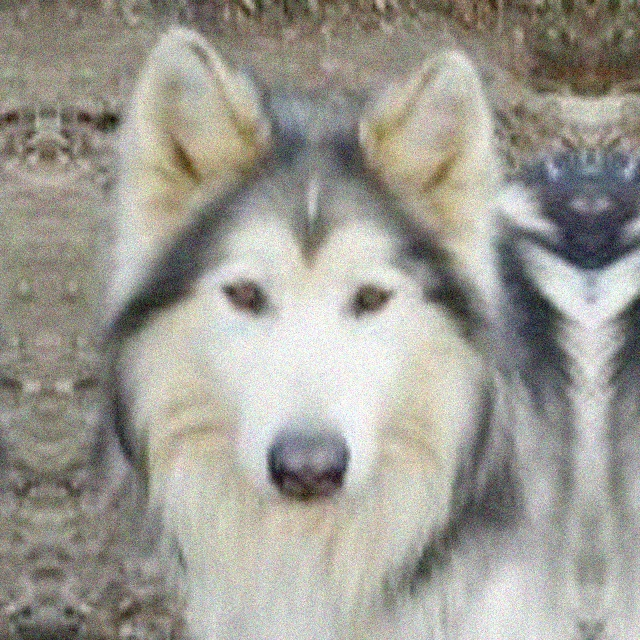dog: (48, 1, 592, 635), (0, 1, 49, 635), (593, 1, 640, 635)
